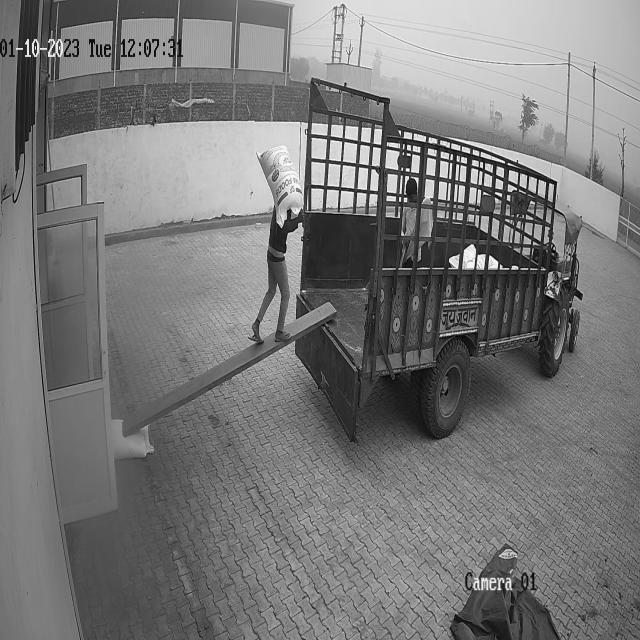sack: (256, 145, 303, 228), (112, 418, 154, 458)
